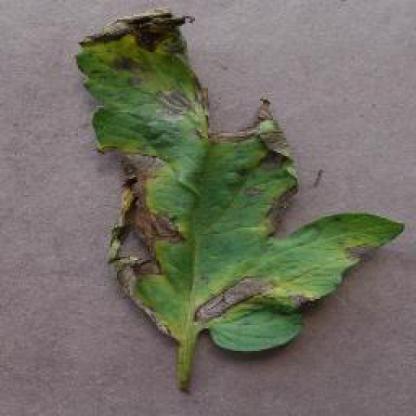Tomato_Blight: (76, 12, 402, 352)
